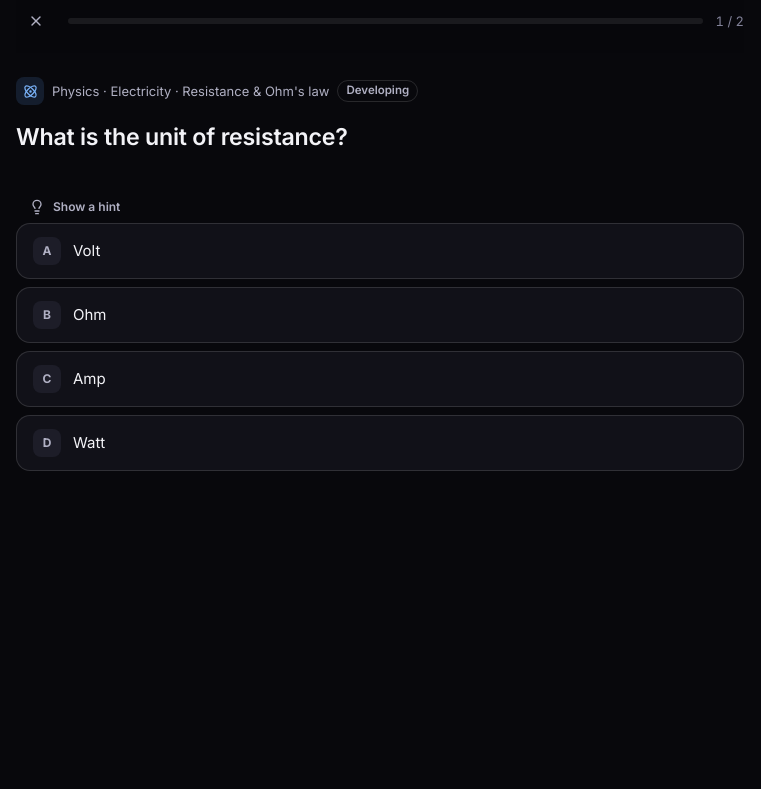
Practice session › records each answer, gives feedback and summarises the session
Expected: the heading "What is the unit of resistance?" is shown, top-left (16, 123), bottom-right (348, 151)
Click the button "A Volt": (47, 251) top-left (16, 223), bottom-right (744, 279)
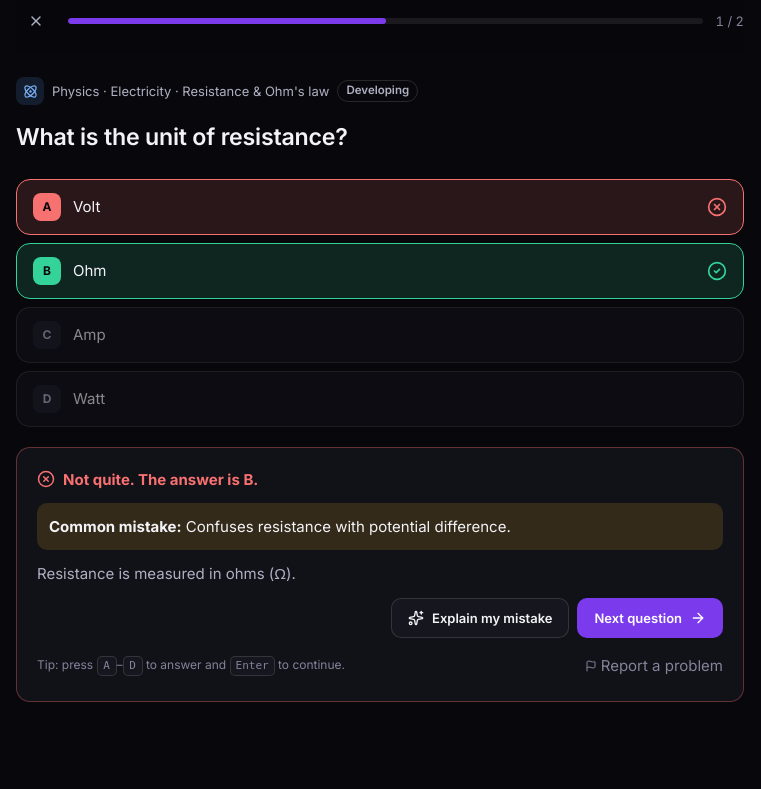
Result: the text "Not quite. The answer is B." is shown at top-left (37, 468), bottom-right (258, 491)
Result: the text "Resistance is measured in ohms (Ω)." is shown at top-left (37, 564), bottom-right (296, 583)
Result: the button "A Volt" is disabled at top-left (16, 179), bottom-right (744, 235)
Click the button "Next question": (650, 618) top-left (578, 598), bottom-right (723, 638)
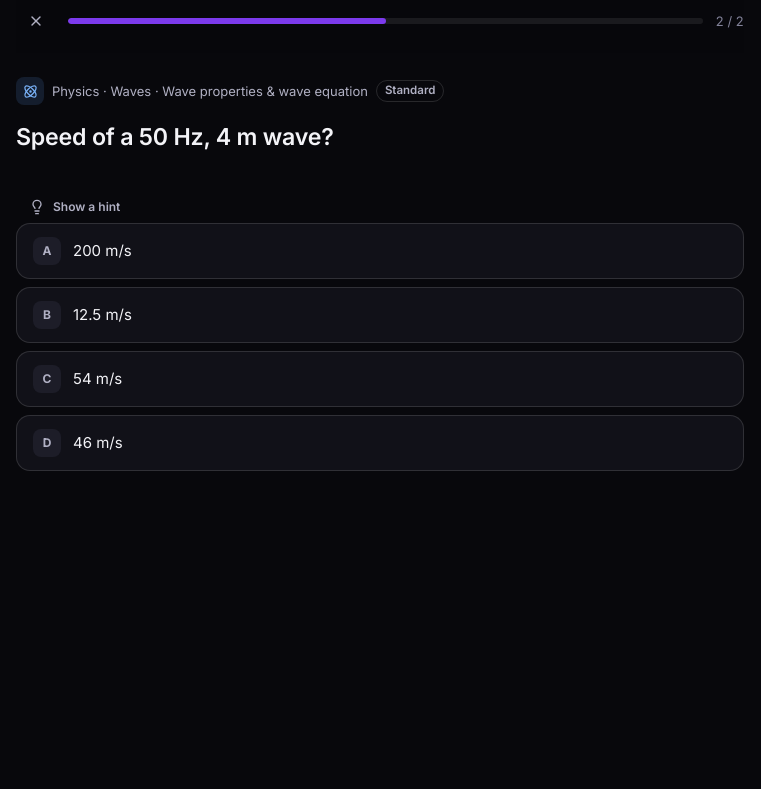
keyboard shortcut: A answers the first option
Type keys "a"
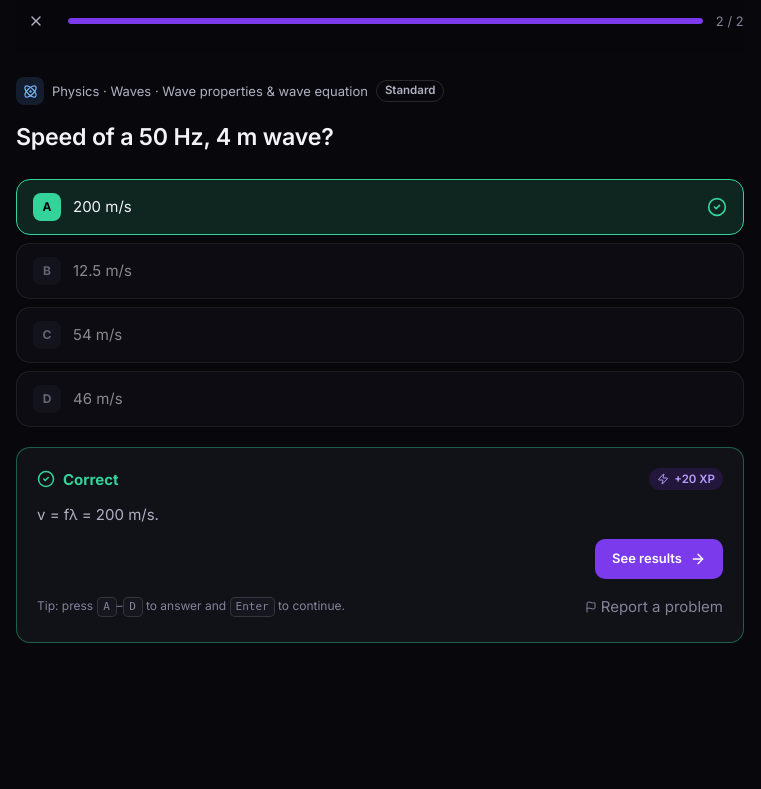
Result: the text "Correct" is shown at top-left (37, 468), bottom-right (118, 491)
Result: the text "+20 XP" is shown at top-left (649, 468), bottom-right (723, 490)
Press Enter
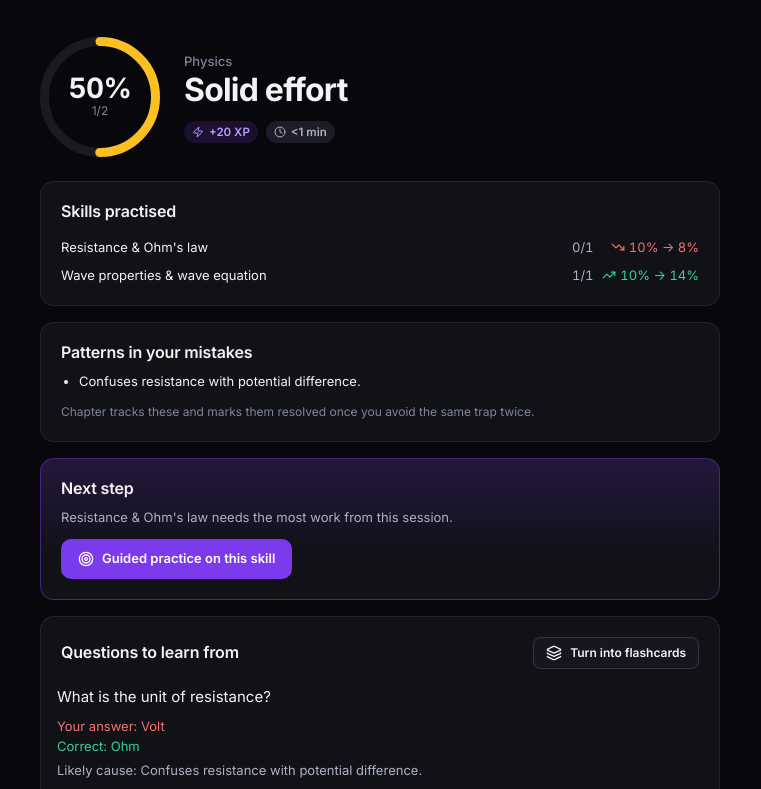
Result: the heading "Solid effort" is shown at top-left (184, 71), bottom-right (348, 109)
Result: the text "1/2" is shown at top-left (92, 103), bottom-right (108, 118)
Result: the text "+20 XP" is shown at top-left (184, 121), bottom-right (258, 143)
